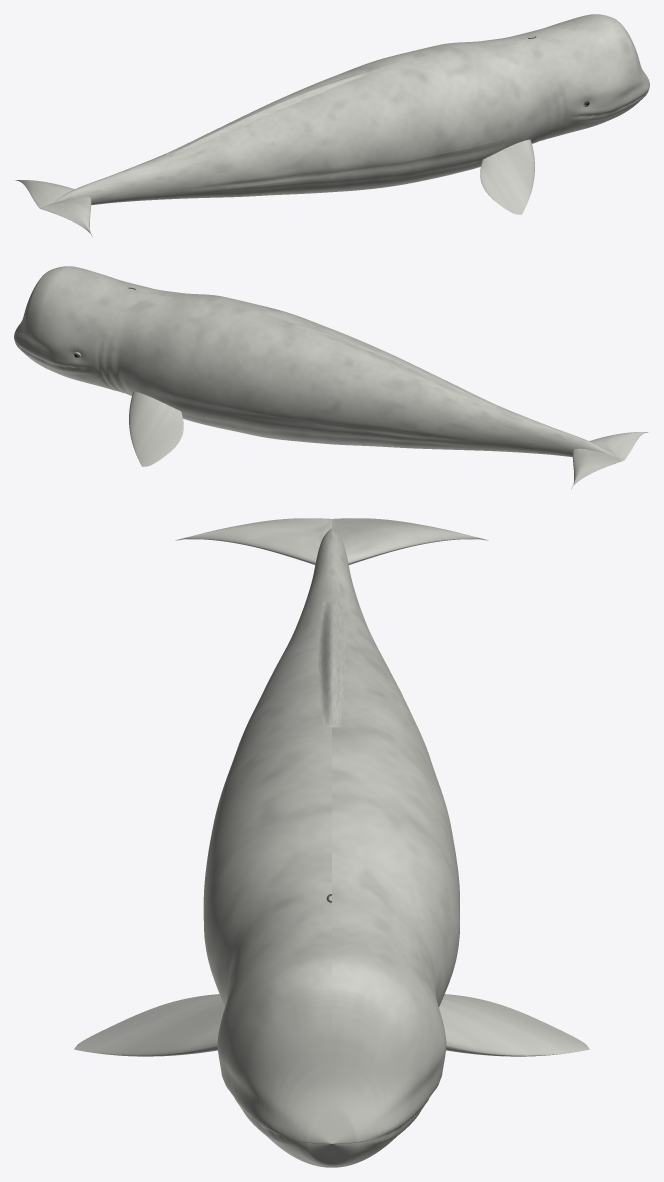
File: beluga-corrected-v0659.glb
3 views of the same model, one above another, from view 1: azimuth 30°, elevation 25°; view 2: azimuth 150°, elevation 25°; view 3: azimuth 270°, elevation 25° (orthographic). The views are drawn at different scales.
Parts seen in each view (by area): view 1: Resculpted CC0 beluga adult exterior, Broad rounded pectoral flipper 1, Low tough dorsal ridge without a dorsal fin, Horizontal low-aspect-ratio fluke 1, Horizontal low-aspect-ratio fluke -1; view 2: Resculpted CC0 beluga adult exterior, Broad rounded pectoral flipper -1, Low tough dorsal ridge without a dorsal fin, Horizontal low-aspect-ratio fluke -1, Horizontal low-aspect-ratio fluke 1; view 3: Resculpted CC0 beluga adult exterior, Broad rounded pectoral flipper 1, Broad rounded pectoral flipper -1, Horizontal low-aspect-ratio fluke -1, Horizontal low-aspect-ratio fluke 1, Low tough dorsal ridge without a dorsal fin.
Part boxes in pixels (x1=…): Resculpted CC0 beluga adult exterior: x1=54, y1=14, x2=649, y2=204; Broad rounded pectoral flipper 1: x1=480, y1=139, x2=534, y2=214; Low tough dorsal ridge without a dorsal fin: x1=166, y1=71, x2=368, y2=156; Horizontal low-aspect-ratio fluke 1: x1=39, y1=196, x2=92, y2=237; Horizontal low-aspect-ratio fluke -1: x1=14, y1=180, x2=74, y2=207; Resculpted CC0 beluga adult exterior: x1=14, y1=266, x2=609, y2=456; Broad rounded pectoral flipper -1: x1=129, y1=391, x2=183, y2=466; Low tough dorsal ridge without a dorsal fin: x1=295, y1=323, x2=497, y2=408; Horizontal low-aspect-ratio fluke -1: x1=571, y1=448, x2=624, y2=489; Horizontal low-aspect-ratio fluke 1: x1=589, y1=432, x2=649, y2=459; Resculpted CC0 beluga adult exterior: x1=203, y1=528, x2=459, y2=1167; Broad rounded pectoral flipper 1: x1=74, y1=994, x2=224, y2=1056; Broad rounded pectoral flipper -1: x1=439, y1=994, x2=589, y2=1056; Horizontal low-aspect-ratio fluke -1: x1=332, y1=518, x2=488, y2=564; Horizontal low-aspect-ratio fluke 1: x1=175, y1=518, x2=331, y2=564; Low tough dorsal ridge without a dorsal fin: x1=318, y1=601, x2=345, y2=727.
Bounding box in the file's own units: 3.98 × 0.753 × 1.47.
Materials: 10 (2 with a texture image).
